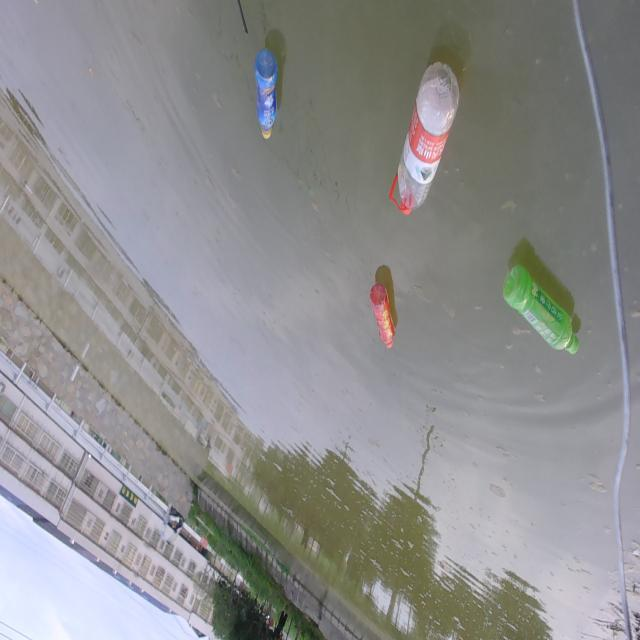garbage: (383, 64, 461, 210), (500, 258, 584, 374), (249, 49, 283, 141), (361, 286, 401, 350)
